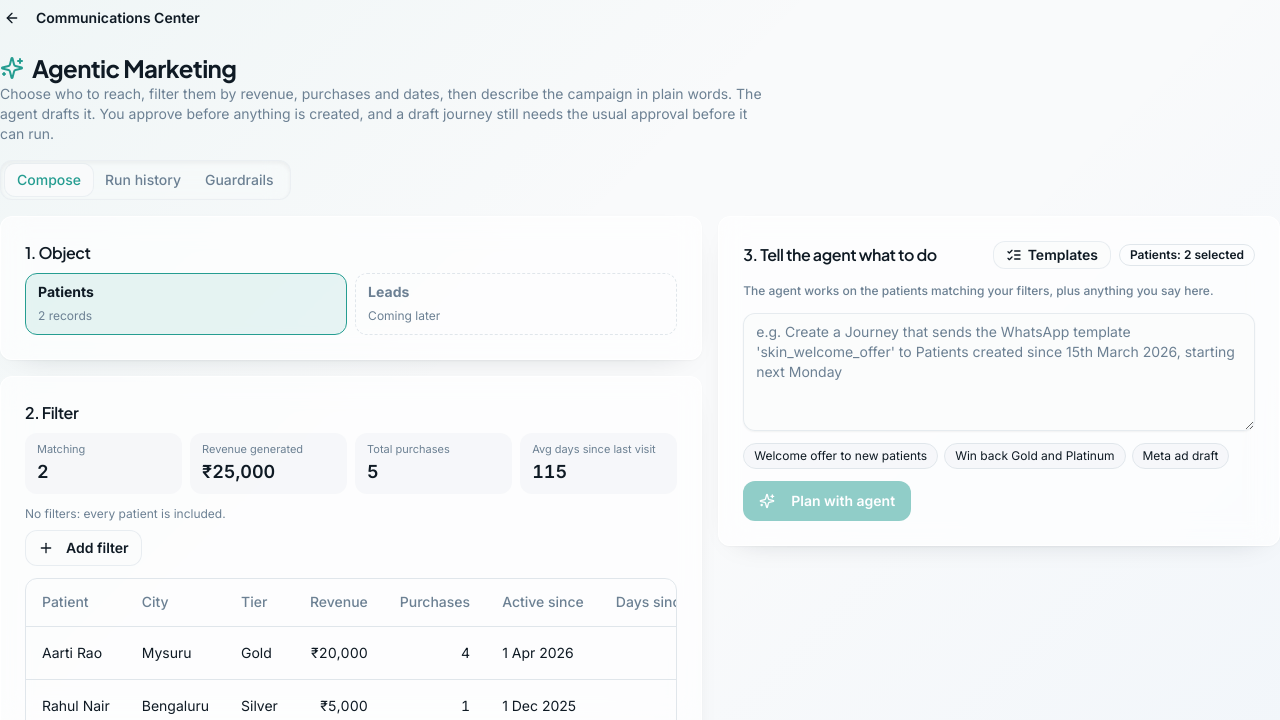
Test: AgenticMarketing › lists approved skin templates and copies the exact name
Later steps or results of the test are not shown.
Expected: the text "Aarti Rao" is shown, [26, 626, 126, 680]
What coordinates should you click on to do the following:
click the button "Templates"
I would click on:
 (1052, 255)
Its box is [993, 241, 1111, 269].
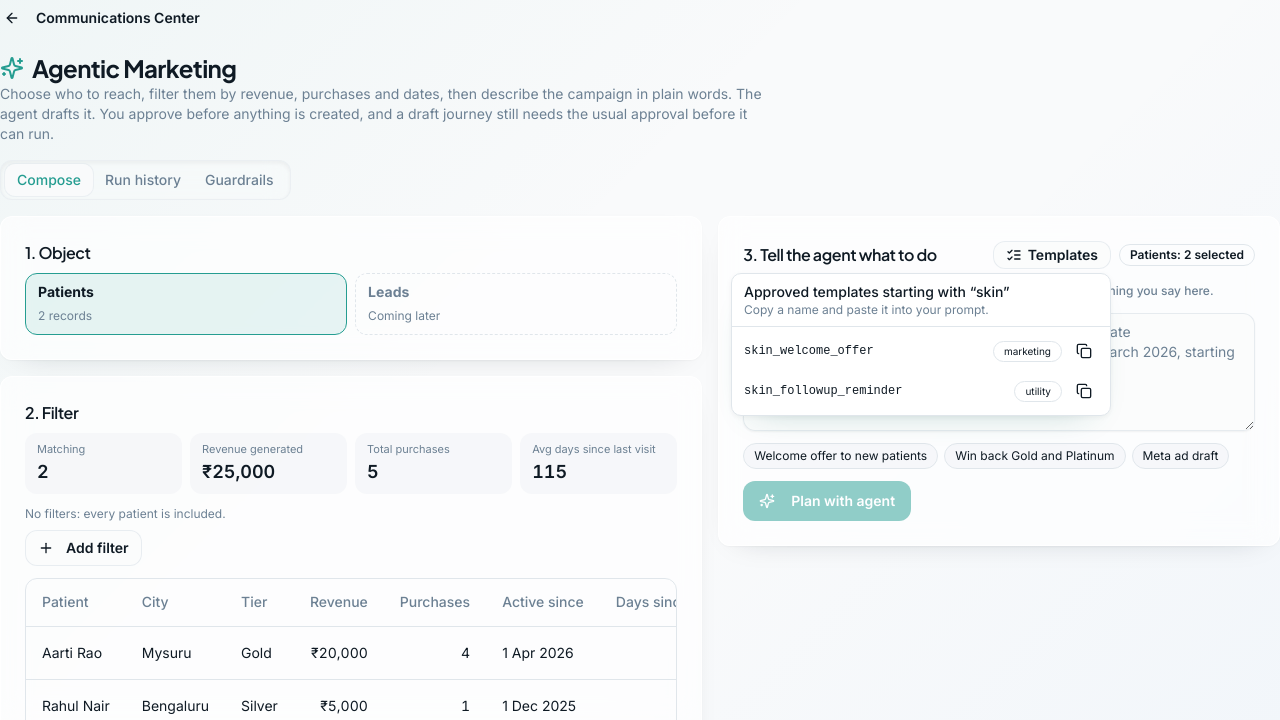
Expected: the text "skin_welcome_offer" is shown, [744, 344, 874, 358]
Expected: the text "skin_followup_reminder" is shown, [744, 384, 902, 398]
